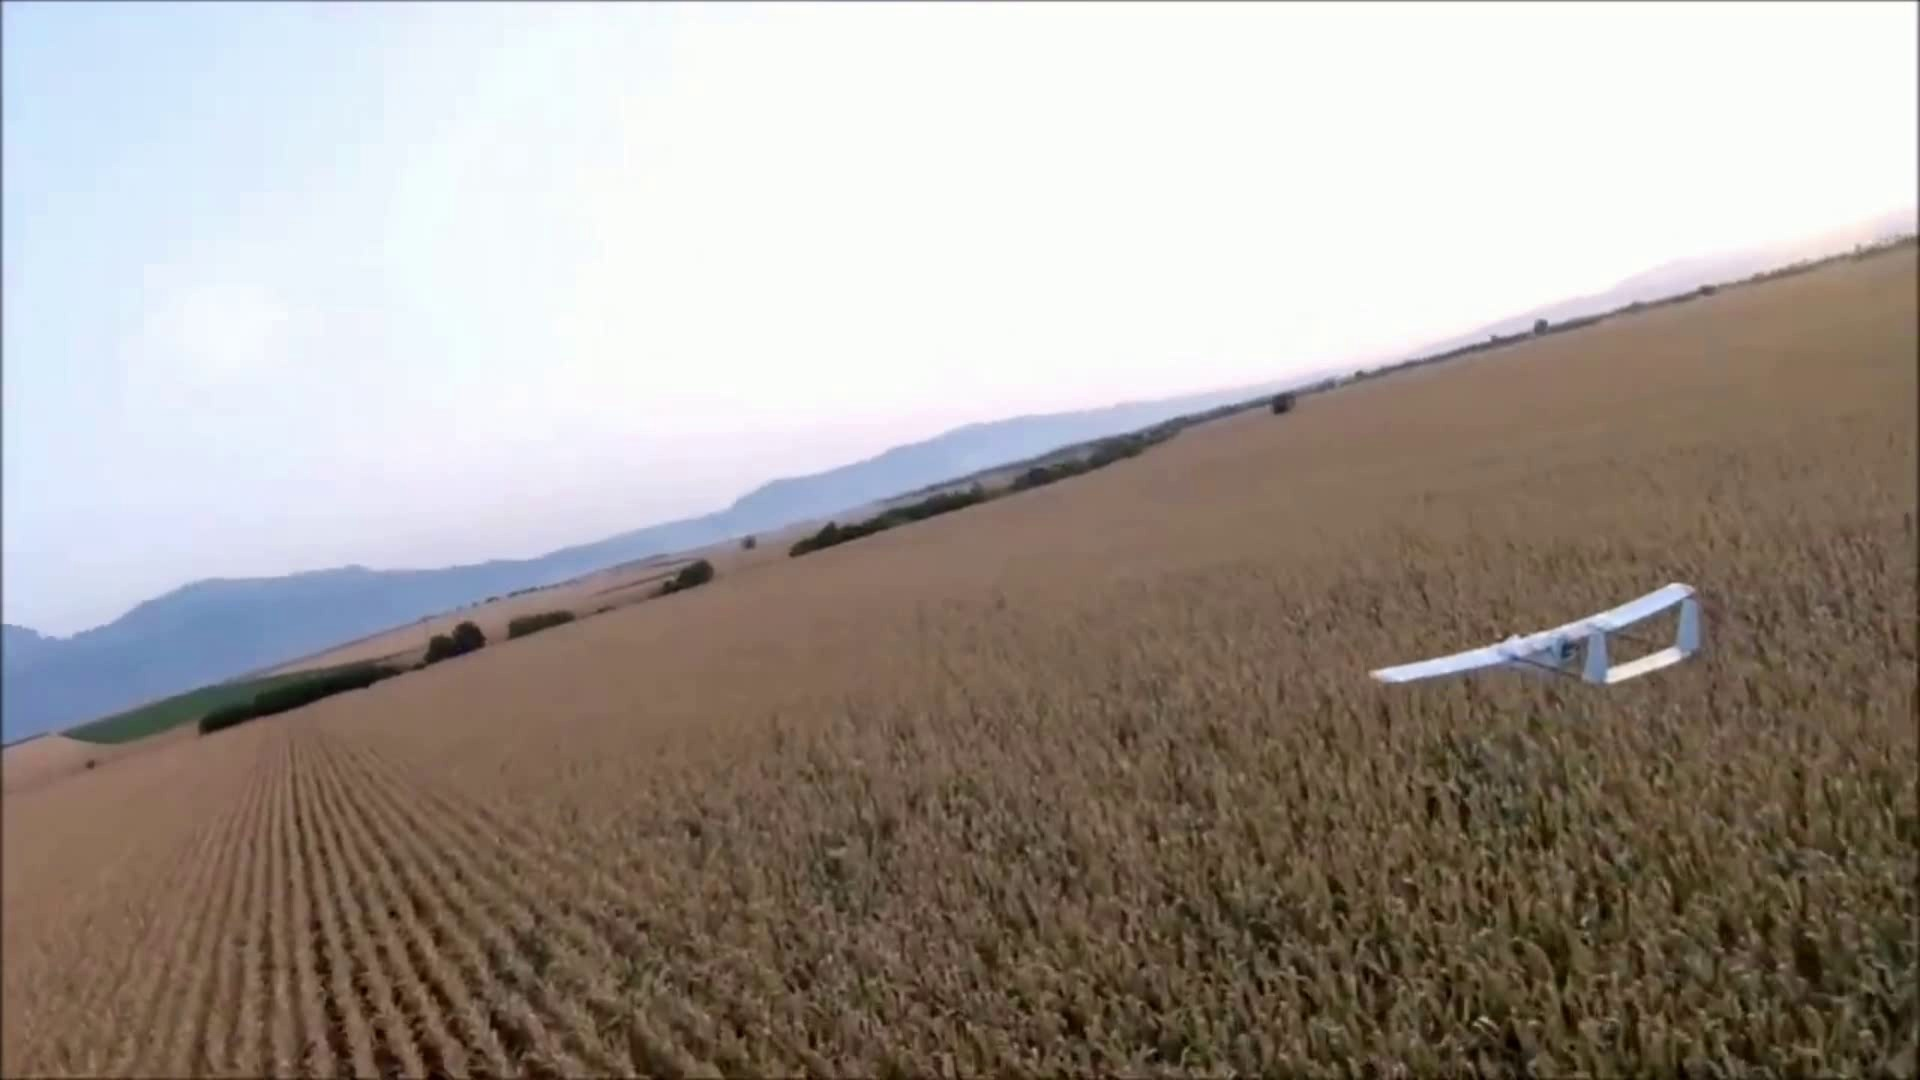airplane: (6, 243, 1888, 768)
